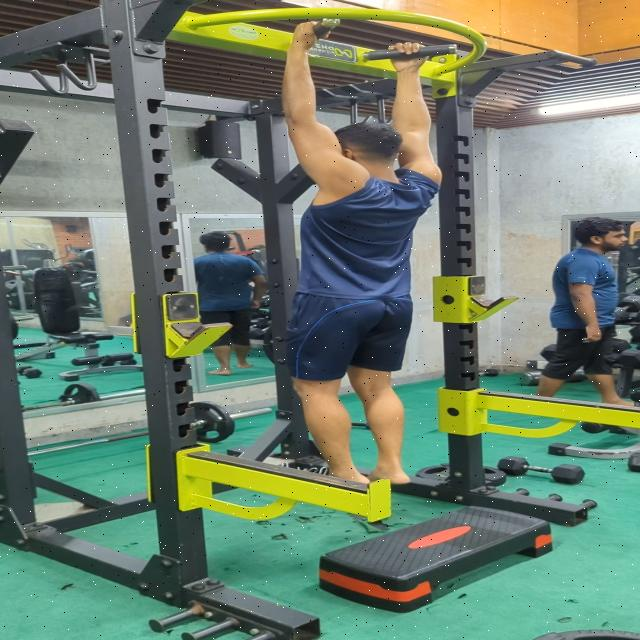Normal_PullUps: (267, 22, 453, 495)
